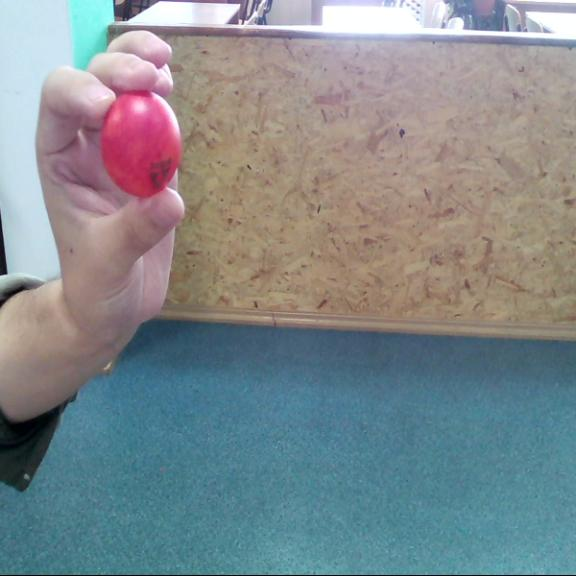ball: (98, 91, 184, 195)
